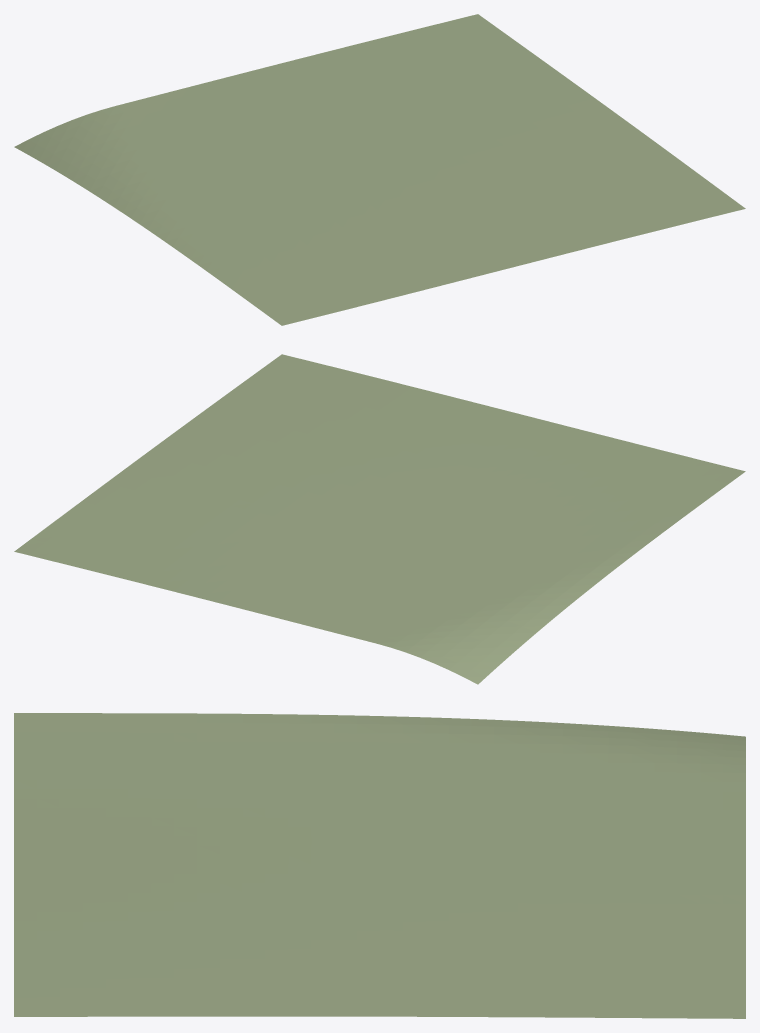
Rendered from desert-19-17.glb.
The picture shows the model from 3 angles, top to bottom: view 1: azimuth 30°, elevation 25°; view 2: azimuth 150°, elevation 25°; view 3: azimuth 270°, elevation 25°; orthographic projection. The views are drawn at different scales.
Visible parts, largest first — view 1: desert-19-17; view 2: desert-19-17; view 3: desert-19-17.
Part boxes in pixels (x1,y1,x2,y2): desert-19-17: (14,14,745,325); desert-19-17: (14,354,745,684); desert-19-17: (14,713,745,1018).
Size of the model in its own units: 512 by 22.71 by 512.
